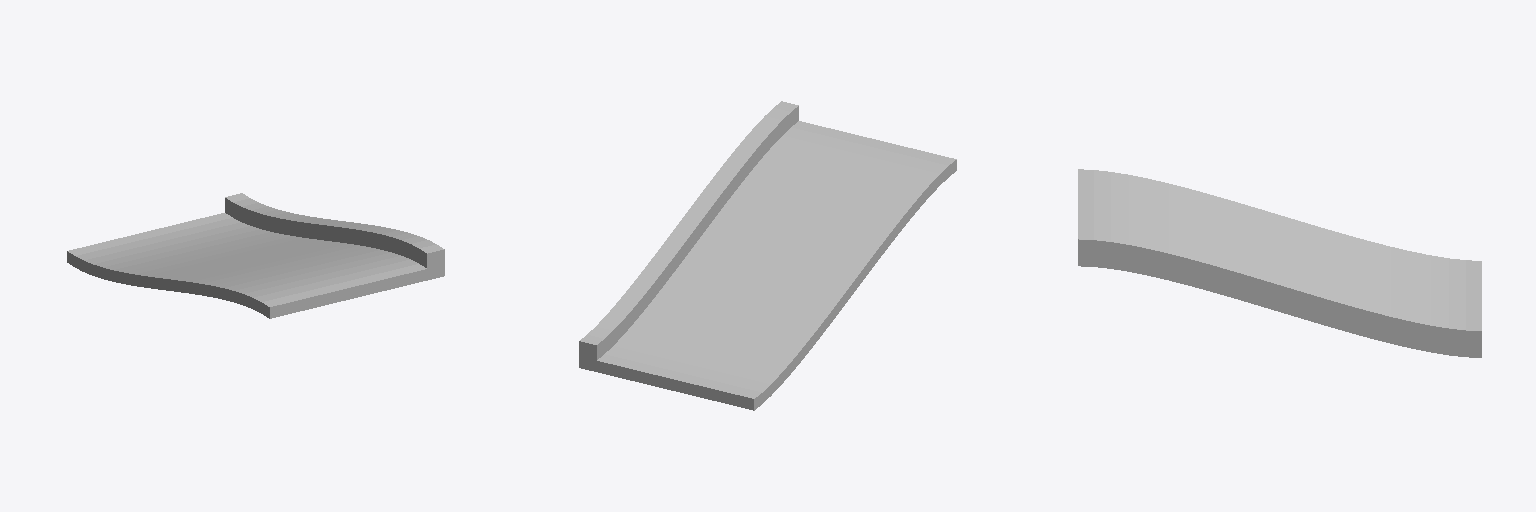
The model's file is rampLargeSide.obj.
3 views of the same model, side by side, from view 1: azimuth 30°, elevation 25°; view 2: azimuth 150°, elevation 25°; view 3: azimuth 270°, elevation 25° (orthographic).
Visible parts, largest first — view 1: rampLargeSide; view 2: rampLargeSide; view 3: rampLargeSide.
Boxes of the visible parts, <box> form: rampLargeSide: <box>67,193,444,318</box>; rampLargeSide: <box>579,101,956,410</box>; rampLargeSide: <box>1078,169,1481,357</box>.
Bounding box in the file's own units: 0.9999 × 0.6467 × 2.